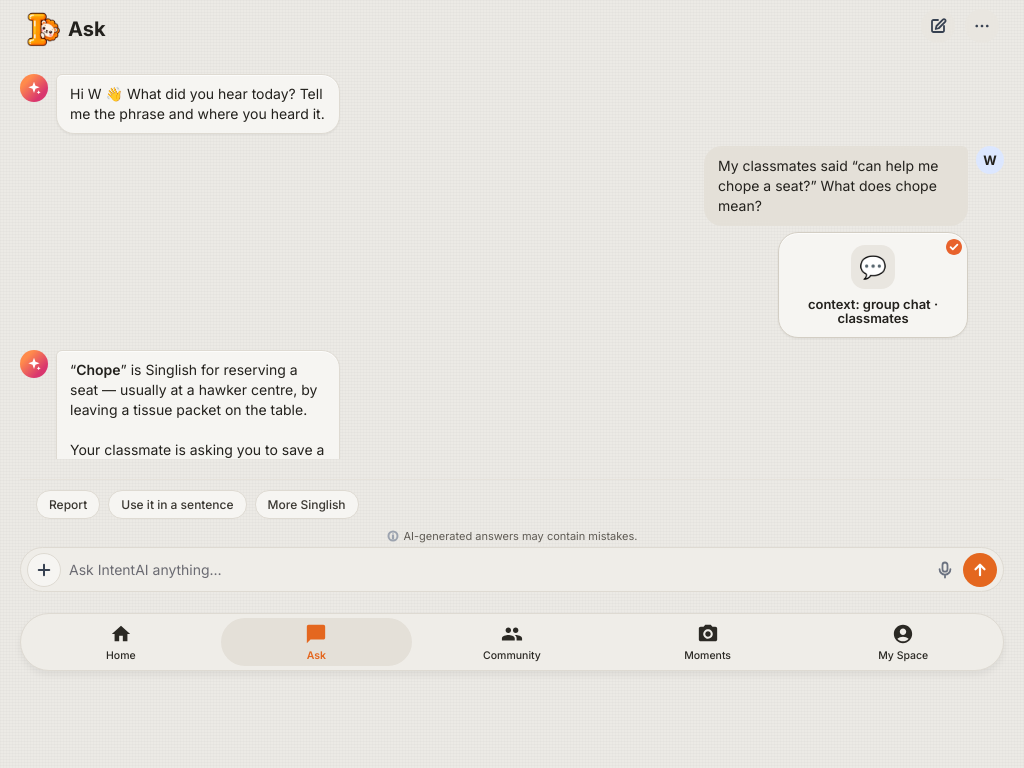
Test: Report saves the latest answer and a reason to the reports store
The image size is (1024, 768).
Click the button "Report" at (68, 504), box [36,490,100,519]
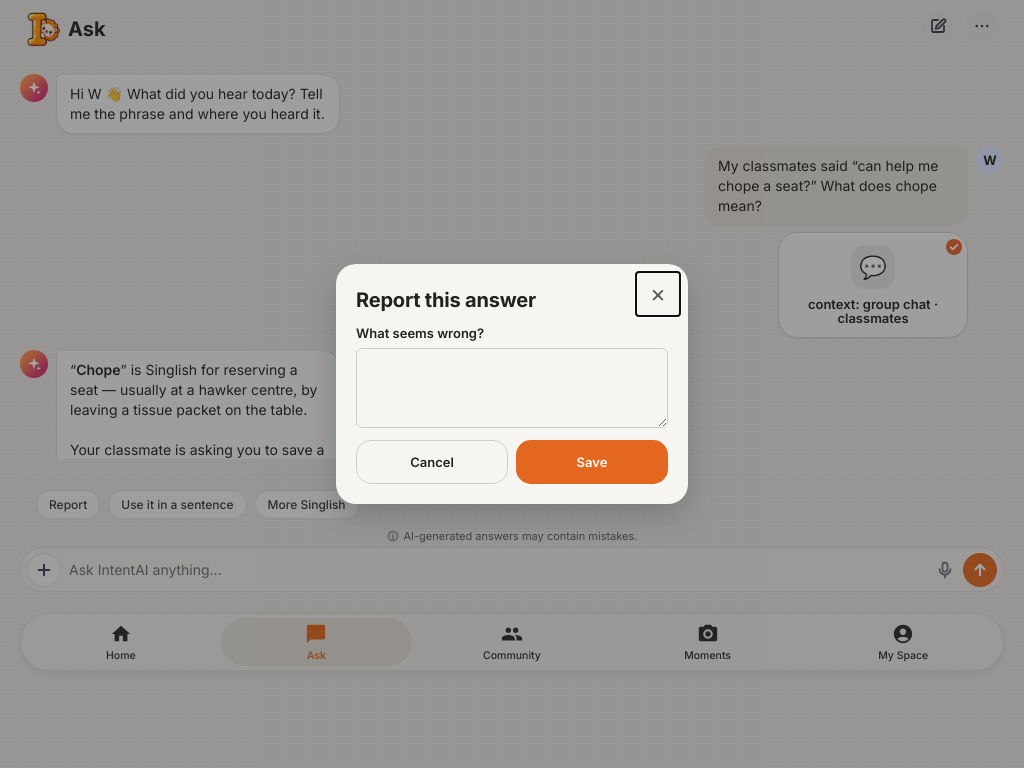
Type "Please check this wording." into the text box labelled "What seems wrong?" at (512, 388), box [356,348,668,428]
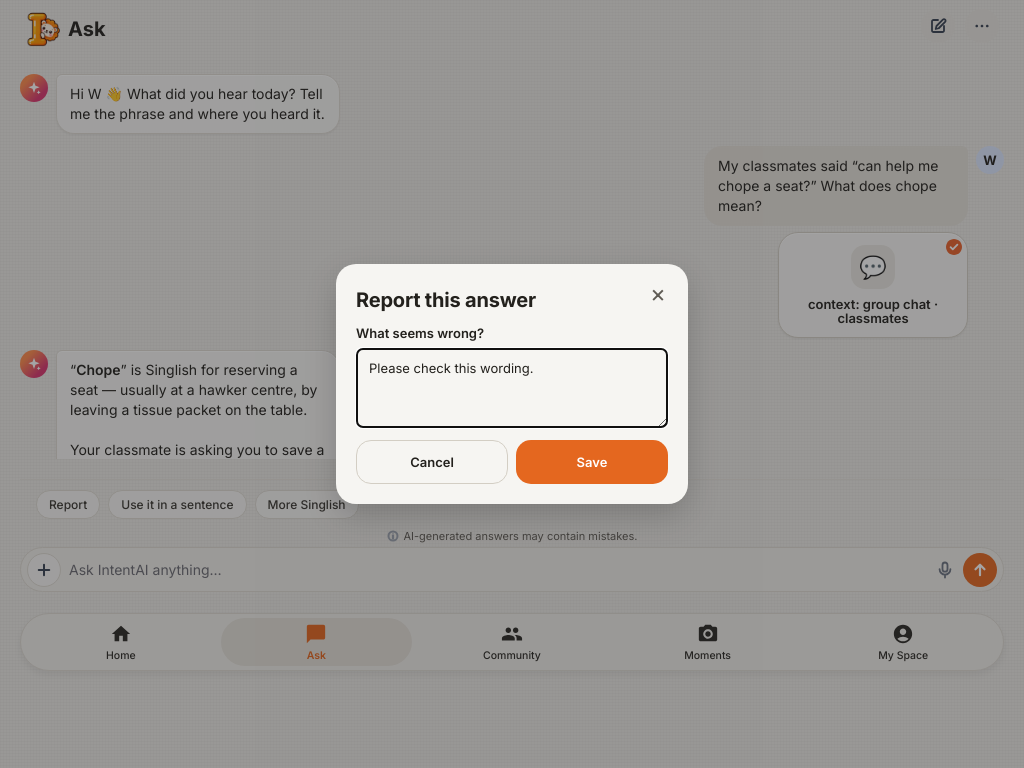
Click the button "Save" at (592, 462), box [516,440,668,484]
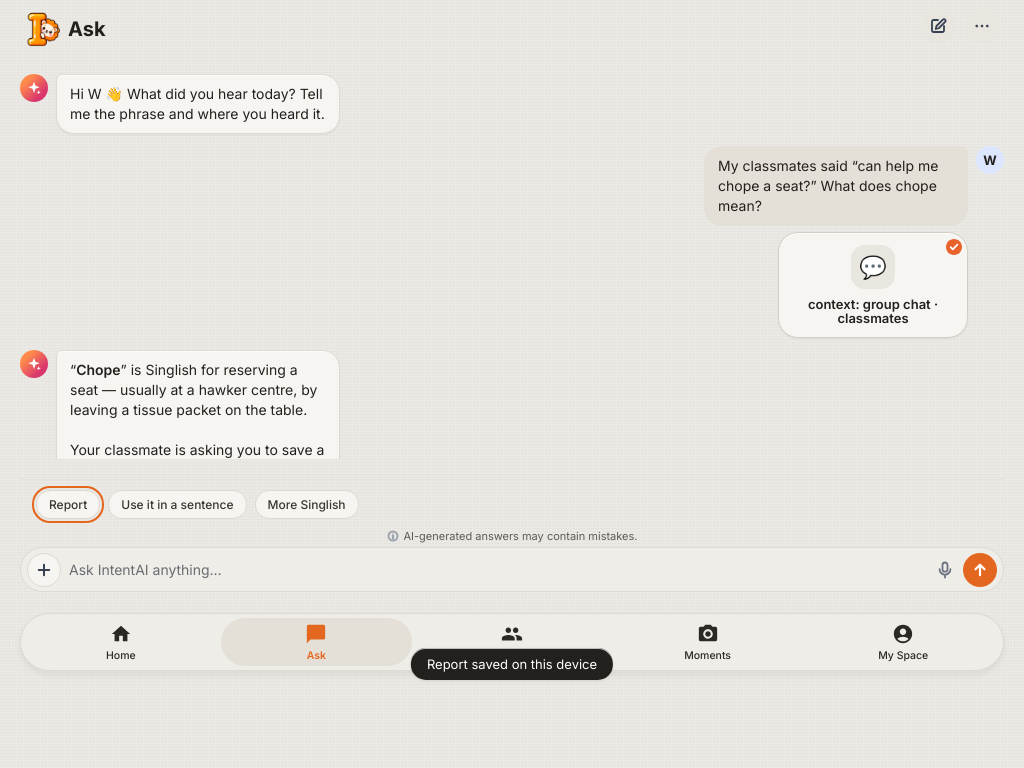
Now the dialog is gone
